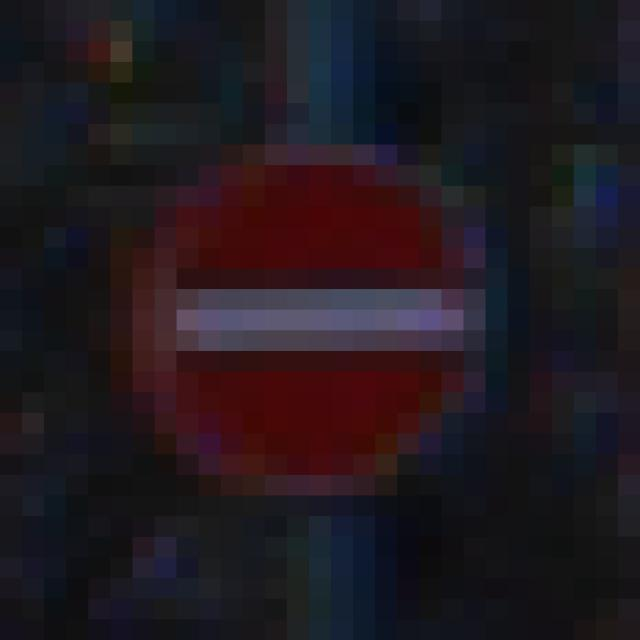No Entry: (111, 104, 531, 538)
